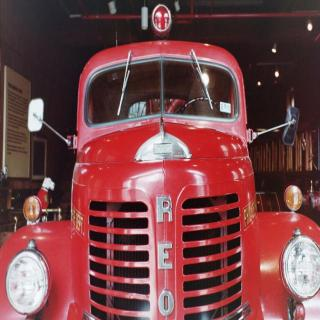Fire_truck: (1, 37, 320, 319)
